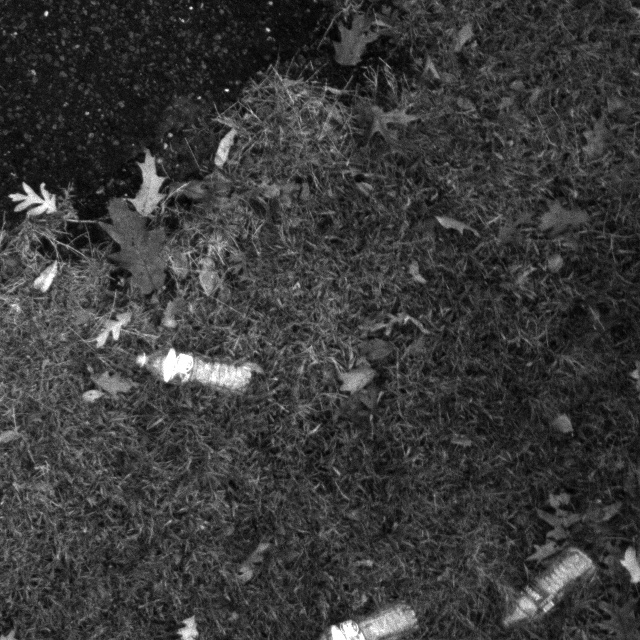bottle: (499, 542, 603, 637), (125, 335, 259, 406)
